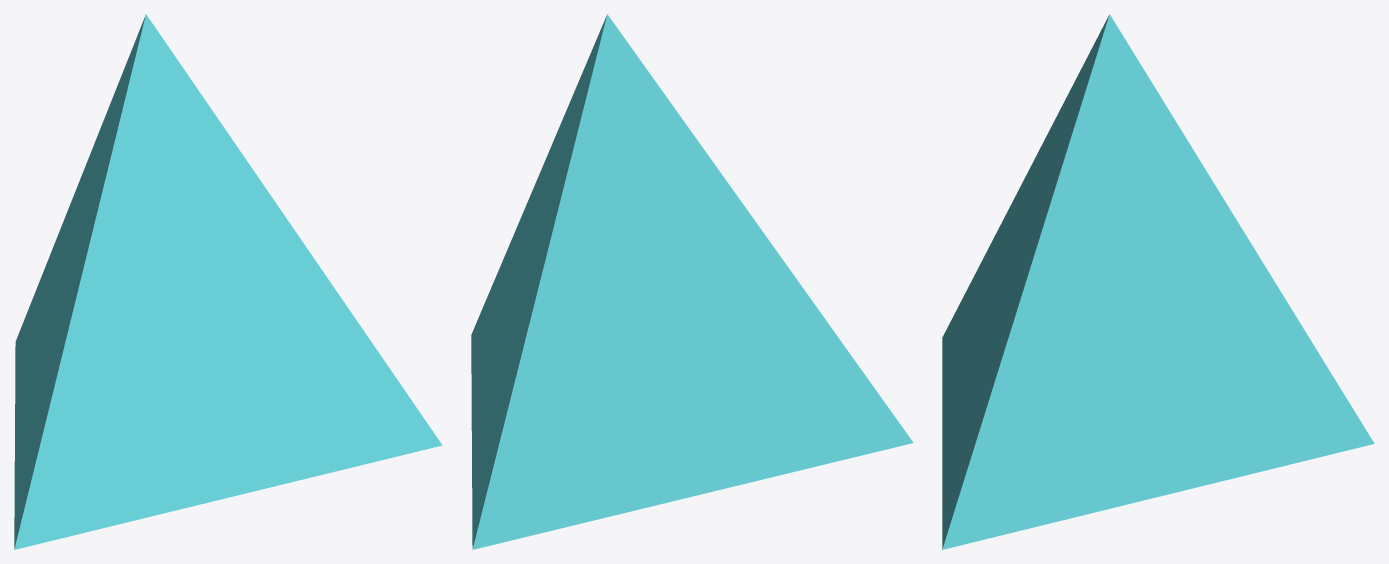
File: habitable-zone.glb
3 views of the same model, side by side, from view 1: azimuth 30°, elevation 25°; view 2: azimuth 150°, elevation 25°; view 3: azimuth 270°, elevation 25° (orthographic). The views are drawn at different scales.
Parts seen in each view (by area): view 1: MissionFallbackModel; view 2: MissionFallbackModel; view 3: MissionFallbackModel.
Boxes of the visible parts, x1=… form: MissionFallbackModel: x1=14, y1=14, x2=442, y2=549; MissionFallbackModel: x1=471, y1=14, x2=913, y2=549; MissionFallbackModel: x1=942, y1=14, x2=1374, y2=549.
Bounding box in the file's own units: 1.8 × 1.7 × 1.55.
